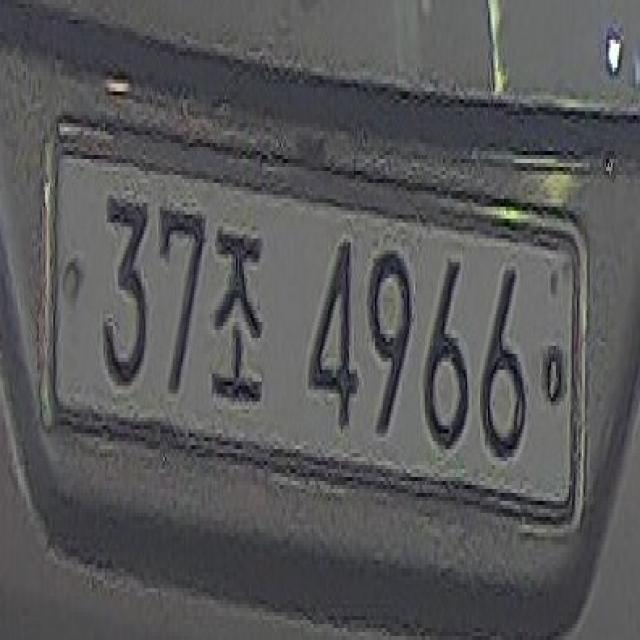3: (100, 179, 150, 389)
4: (304, 230, 360, 430)
6: (474, 251, 525, 461), (422, 250, 472, 450)
7: (157, 198, 207, 394)
9: (365, 242, 414, 438)
jo: (208, 218, 266, 414)
license_plate: (45, 119, 585, 537)
